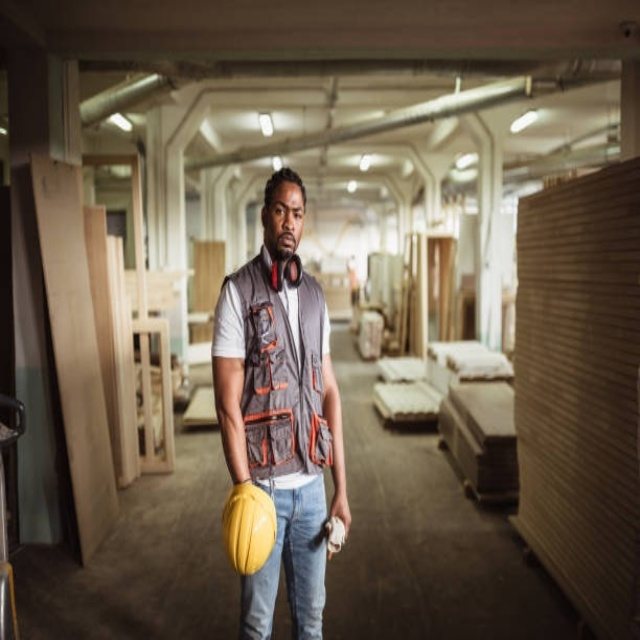Sin_gafas: (272, 195, 305, 223)
Sin_guantes: (328, 488, 353, 544)
Sin_mascara: (275, 229, 298, 254)
